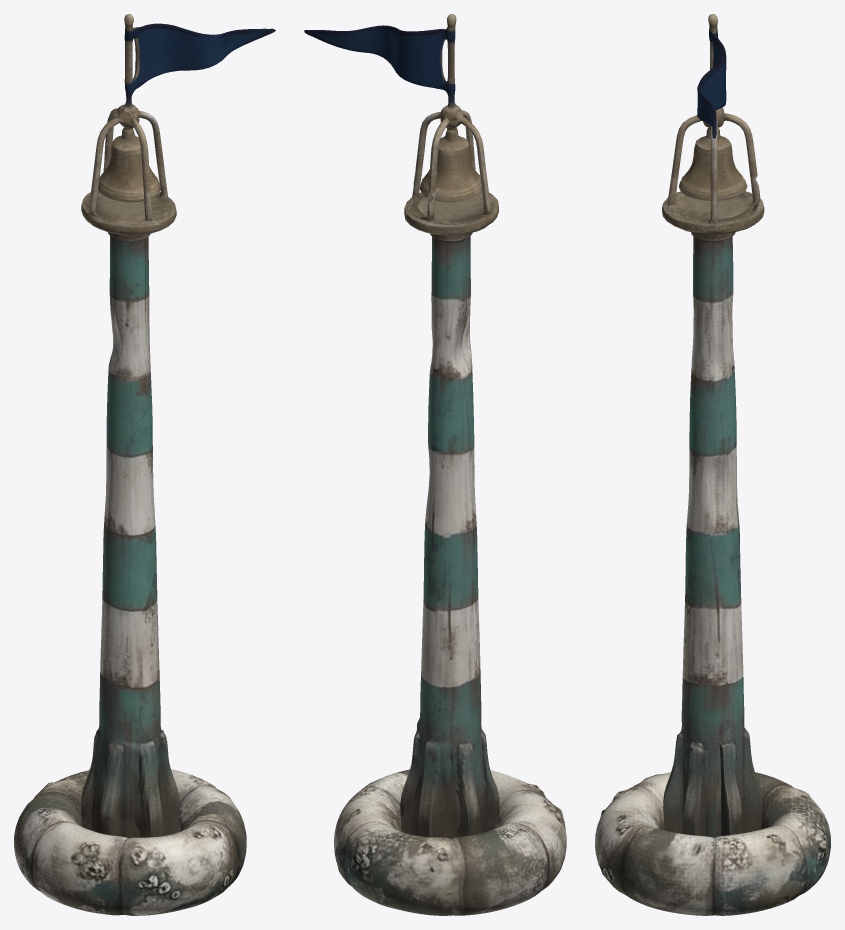
File: tidewake_channel_spar_buoy.glb
3 views of the same model, side by side, from view 1: azimuth 30°, elevation 25°; view 2: azimuth 150°, elevation 25°; view 3: azimuth 270°, elevation 25° (orthographic).
Parts seen in each view (by area): view 1: Mesh_0; view 2: Mesh_0; view 3: Mesh_0.
Part boxes in pixels (x1,y1,x2,y2): Mesh_0: [14, 14, 275, 915]; Mesh_0: [304, 14, 566, 915]; Mesh_0: [595, 14, 830, 915].
Size of the model in its own units: 0.5636 by 1.9 by 0.4697.
1 material, 1 textured.
